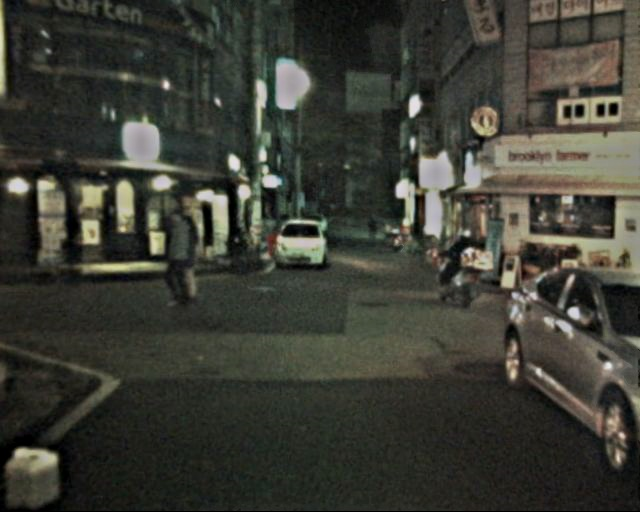person: (157, 209, 203, 307), (448, 232, 482, 311)
